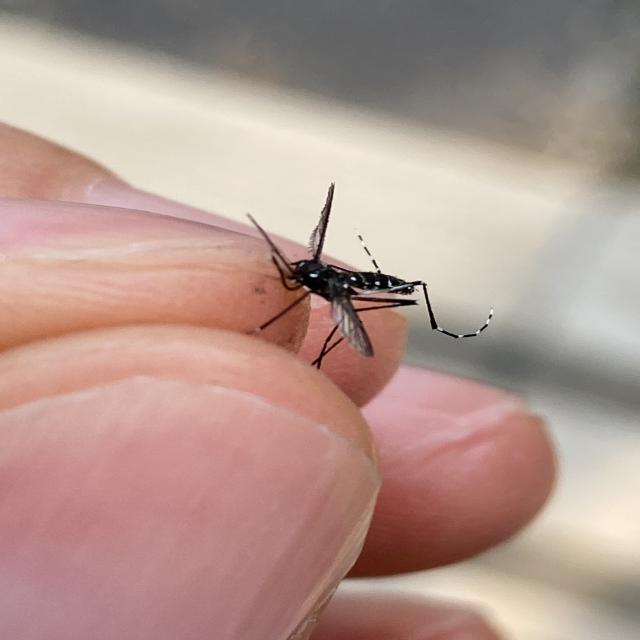albopictus: (230, 172, 498, 366)
